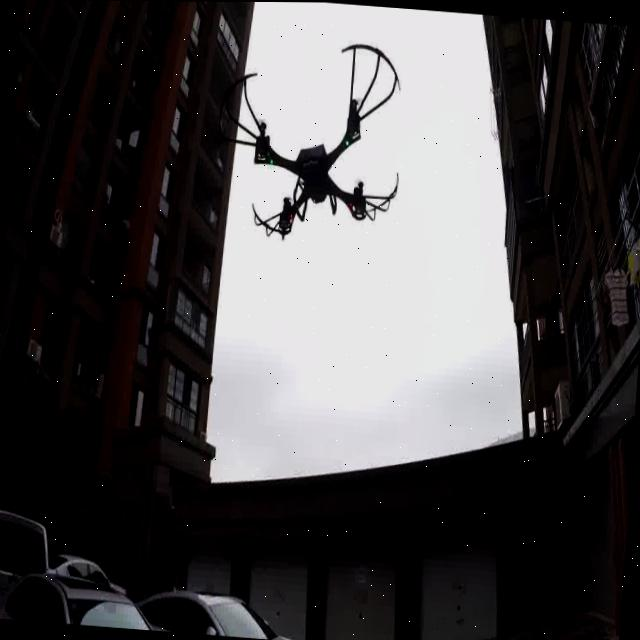drone: (206, 13, 437, 247)
